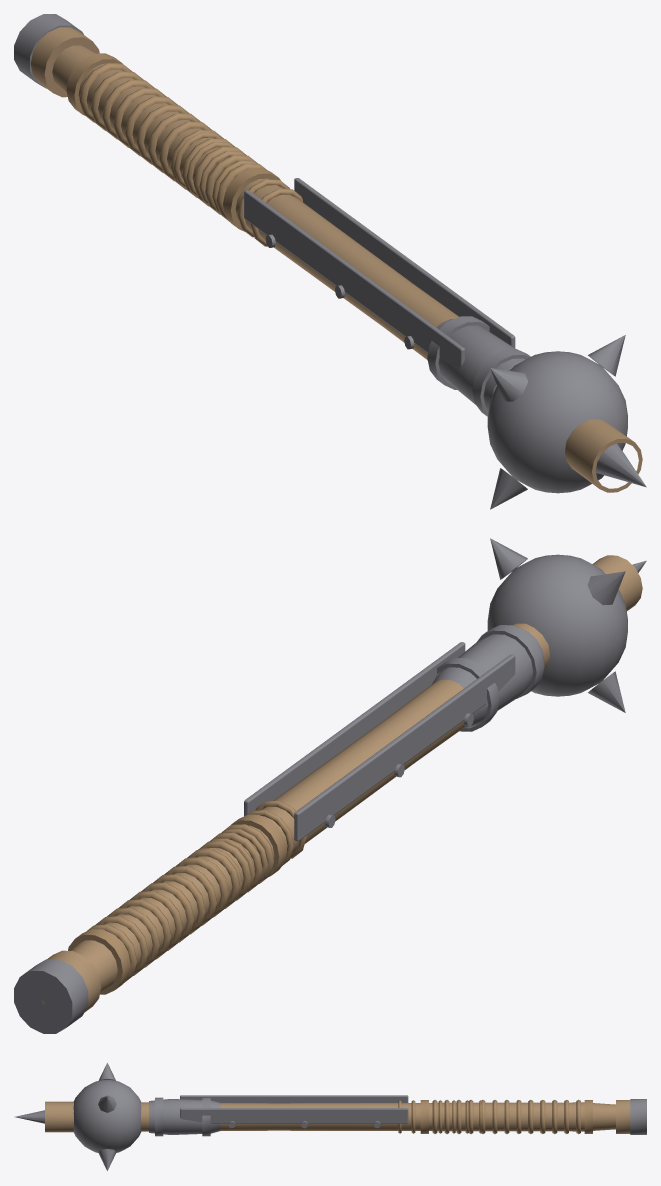
File: knobbed-mace.glb
The picture shows the model from 3 angles, top to bottom: view 1: azimuth 30°, elevation 25°; view 2: azimuth 150°, elevation 25°; view 3: azimuth 270°, elevation 25°; orthographic projection. The views are drawn at different scales.
Parts seen in each view (by area): view 1: knobbed-mace; view 2: knobbed-mace; view 3: knobbed-mace.
Part boxes in pixels (x1,y1,x2,y2): knobbed-mace: (14, 14, 646, 509); knobbed-mace: (14, 538, 646, 1033); knobbed-mace: (15, 1063, 646, 1170).
Size of the model in its own units: 0.0792 by 0.0792 by 0.61.
